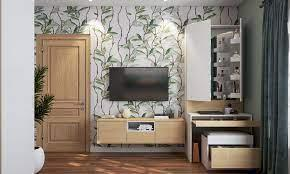TV: (108, 66, 170, 104)
console: (95, 115, 184, 144)
door: (43, 38, 87, 154)
table: (189, 108, 250, 169)
